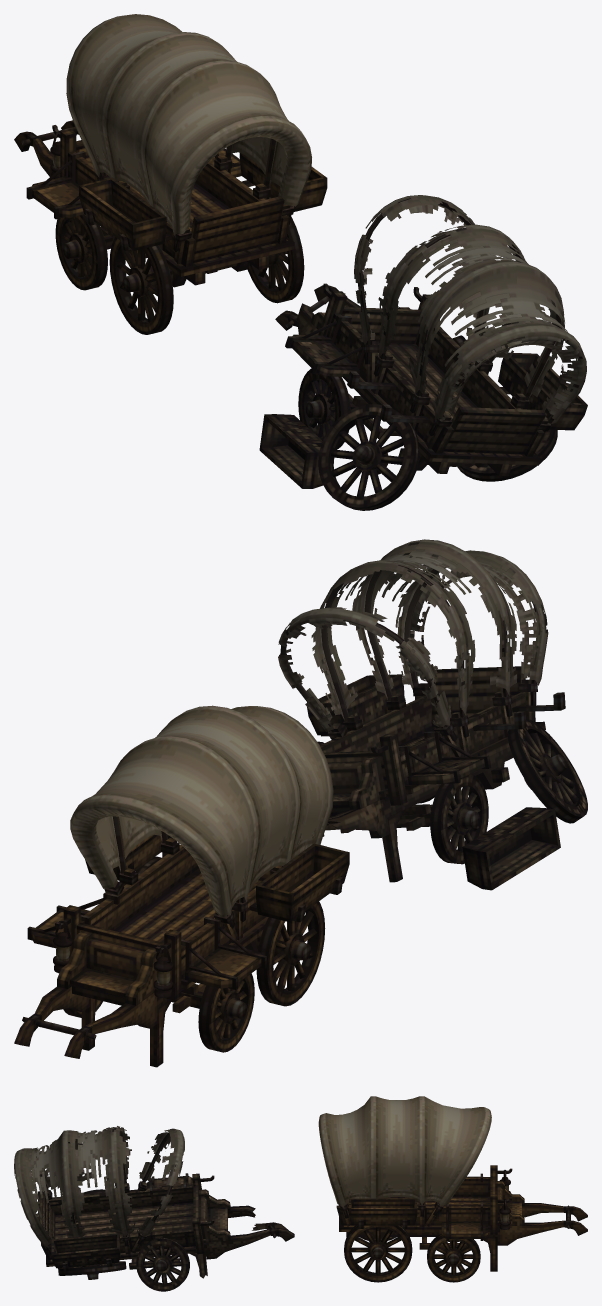
File: EnvObjMD_Carriage_Wagon.FBX
3 renders of one model, top to bottom at view 1: azimuth 30°, elevation 25°; view 2: azimuth 150°, elevation 25°; view 3: azimuth 270°, elevation 25°, orthographic. The views are drawn at different scales.
Parts seen in each view (by area): view 1: EnvObjMD_Carriage_Wagon, EnvObjMD_Carriage_Wagon_Broken_A; view 2: EnvObjMD_Carriage_Wagon, EnvObjMD_Carriage_Wagon_Broken_A; view 3: EnvObjMD_Carriage_Wagon, EnvObjMD_Carriage_Wagon_Broken_A.
Part boxes in pixels (left/top/right/bottom): EnvObjMD_Carriage_Wagon: left=14, top=14, right=327, bottom=334; EnvObjMD_Carriage_Wagon_Broken_A: left=259, top=195, right=587, bottom=510; EnvObjMD_Carriage_Wagon: left=14, top=705, right=349, bottom=1067; EnvObjMD_Carriage_Wagon_Broken_A: left=278, top=539, right=587, bottom=890; EnvObjMD_Carriage_Wagon: left=318, top=1096, right=587, bottom=1282; EnvObjMD_Carriage_Wagon_Broken_A: left=14, top=1126, right=294, bottom=1291.
Bounding box in the file's own units: 353 × 364 × 1176.
Materials: 2 (2 with a texture image).
